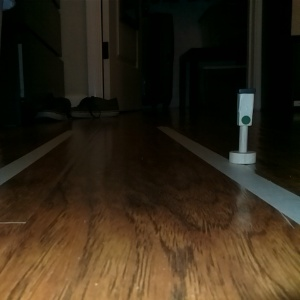traffic light green: (227, 85, 258, 165)
